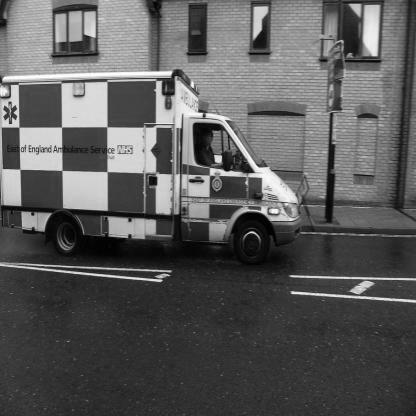ambulance: (1, 60, 307, 279)
